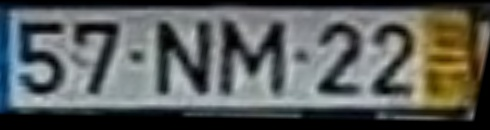2: (369, 20, 422, 99), (315, 20, 368, 97)
5: (16, 21, 68, 97)
7: (73, 22, 122, 99)
M: (216, 20, 291, 99)
N: (152, 19, 217, 101)
